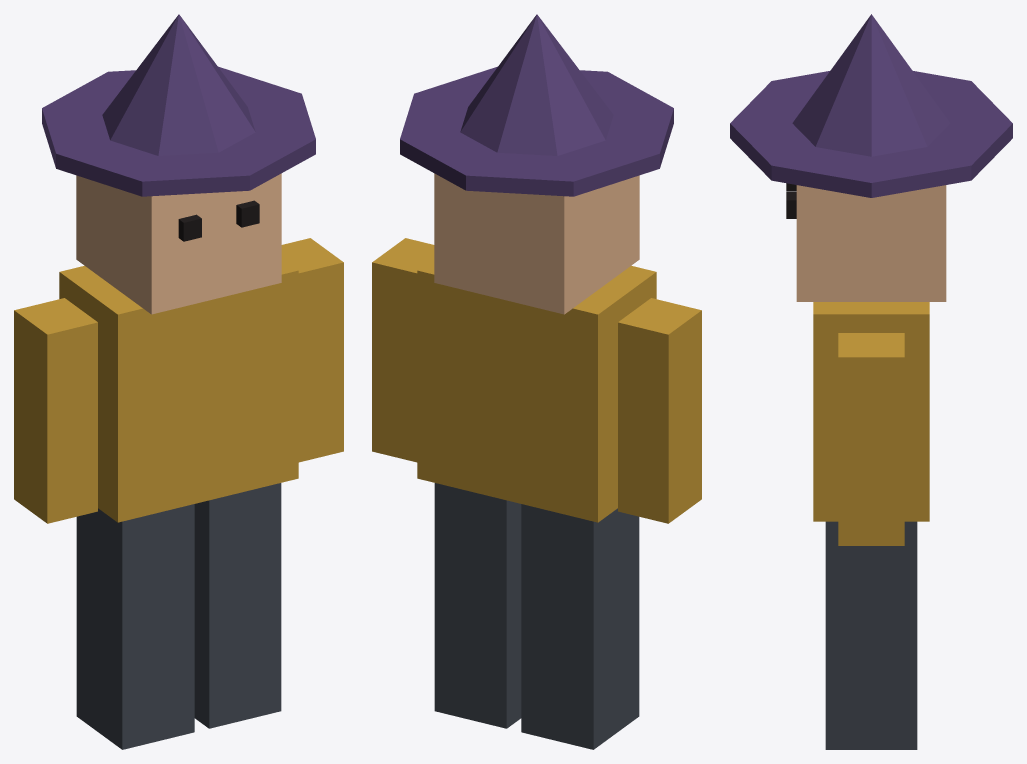
File: guide.obj
The picture shows the model from 3 angles, left to right: view 1: azimuth 30°, elevation 25°; view 2: azimuth 150°, elevation 25°; view 3: azimuth 270°, elevation 25°; orthographic projection.
Parts seen in each view (by area): view 1: part_0, part_6, part_1, part_7, part_5, part_8, part_4, part_9, part_3, part_2; view 2: part_0, part_6, part_1, part_7, part_5, part_8, part_4, part_9; view 3: part_7, part_5, part_1, part_9, part_0, part_4.
Part boxes in pixels (left/top/right/bottom): part_0: left=59, top=258, right=298, bottom=522; part_6: left=76, top=504, right=194, bottom=749; part_1: left=76, top=173, right=281, bottom=314; part_7: left=194, top=483, right=281, bottom=728; part_5: left=42, top=66, right=315, bottom=196; part_8: left=14, top=298, right=97, bottom=523; part_4: left=102, top=14, right=255, bottom=155; part_9: left=281, top=238, right=343, bottom=462; part_3: left=236, top=200, right=259, bottom=227; part_2: left=178, top=214, right=201, bottom=241; part_0: left=417, top=258, right=656, bottom=522; part_6: left=521, top=504, right=639, bottom=749; part_1: left=434, top=173, right=639, bottom=314; part_7: left=434, top=483, right=521, bottom=728; part_5: left=400, top=66, right=673, bottom=196; part_8: left=618, top=298, right=701, bottom=523; part_4: left=460, top=14, right=613, bottom=155; part_9: left=372, top=238, right=434, bottom=462; part_7: left=825, top=521, right=917, bottom=749; part_5: left=730, top=71, right=1012, bottom=197; part_1: left=796, top=185, right=946, bottom=301; part_9: left=838, top=333, right=904, bottom=545; part_0: left=813, top=302, right=929, bottom=521; part_4: left=792, top=14, right=950, bottom=156.
Size of the model in its own units: 0.82 by 1.85 by 0.68.
